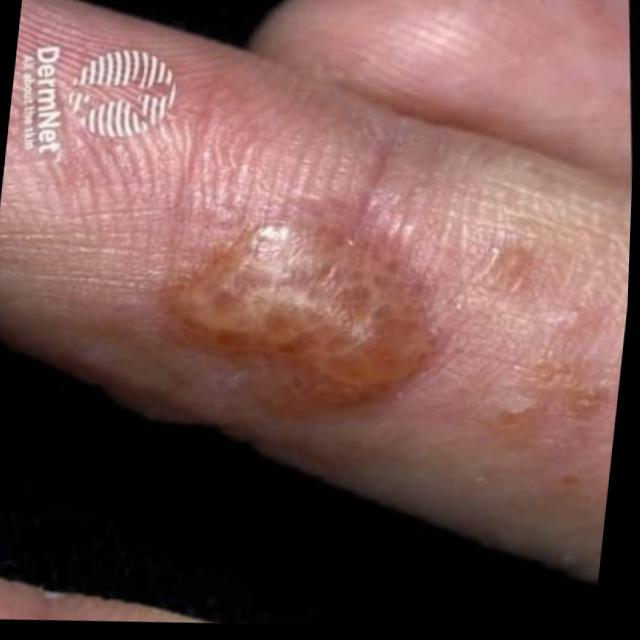Eczema: (71, 168, 446, 450), (467, 223, 631, 498)
